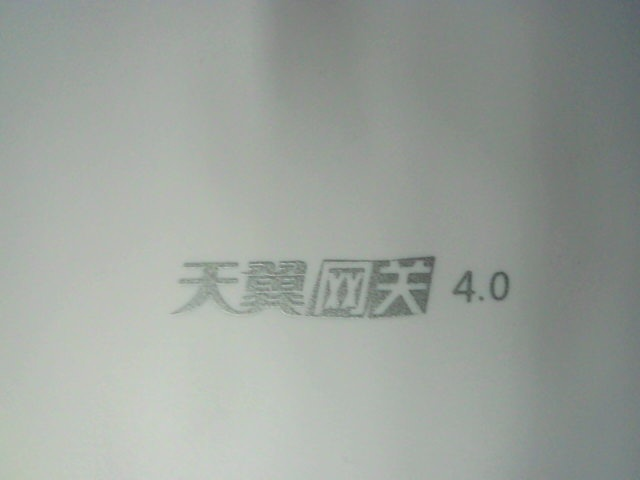BM_TianYiWangGuan: (170, 254, 517, 320)
